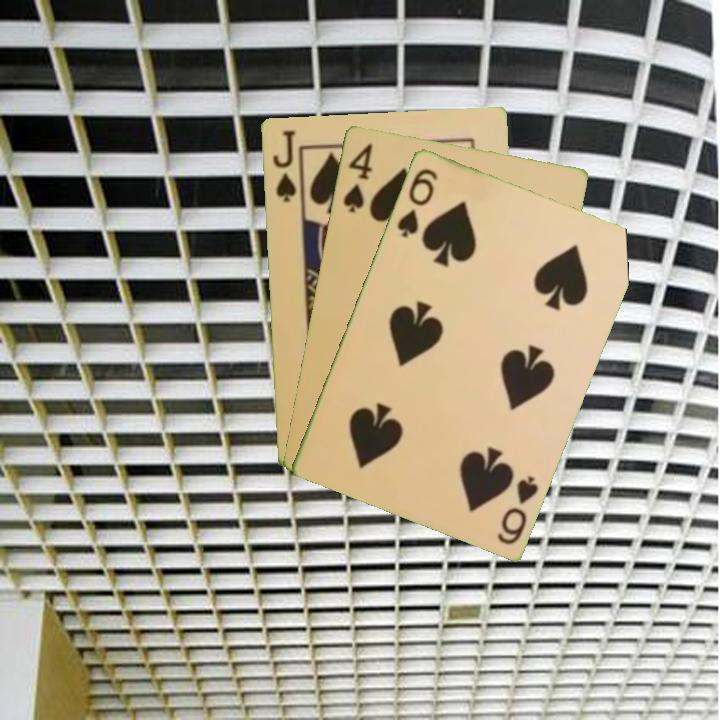4s: (339, 139, 375, 215)
6s: (393, 164, 441, 240), (493, 471, 541, 547)
Js: (268, 126, 298, 205)
